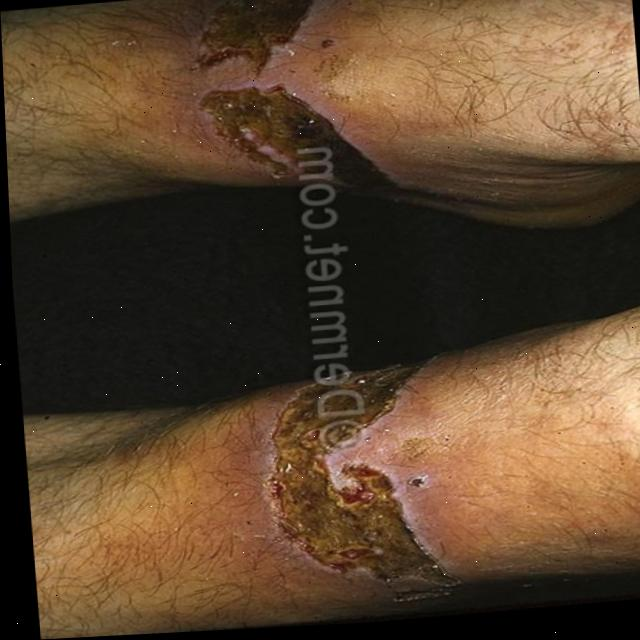Eczema: (245, 376, 444, 610), (183, 0, 392, 204)
